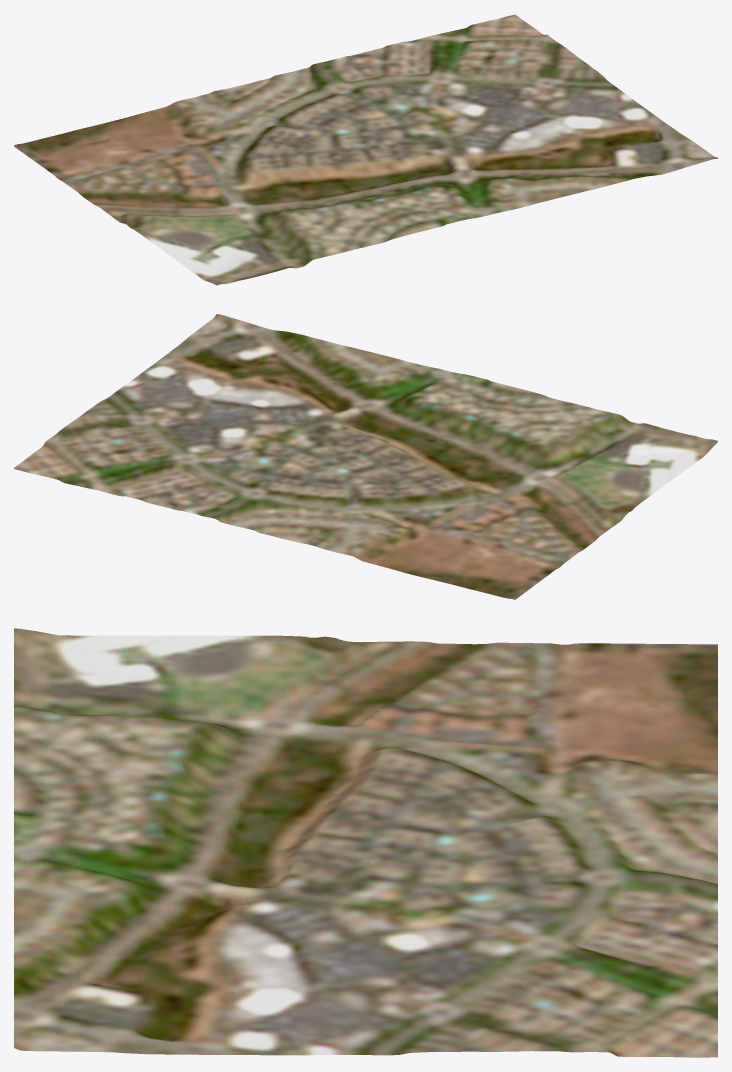
File: terrain_r3_c4.glb
The picture shows the model from 3 angles, top to bottom: view 1: azimuth 30°, elevation 25°; view 2: azimuth 150°, elevation 25°; view 3: azimuth 270°, elevation 25°; orthographic projection. The views are drawn at different scales.
Visible parts, largest first — view 1: terrain_r3_c4_lod0; view 2: terrain_r3_c4_lod0; view 3: terrain_r3_c4_lod0.
Part boxes in pixels (x1,y1,x2,y2): terrain_r3_c4_lod0: [14, 14, 717, 285]; terrain_r3_c4_lod0: [14, 314, 717, 599]; terrain_r3_c4_lod0: [14, 628, 717, 1057].
Size of the model in its own units: 1125 by 35.23 by 787.
1 material, 1 textured.
